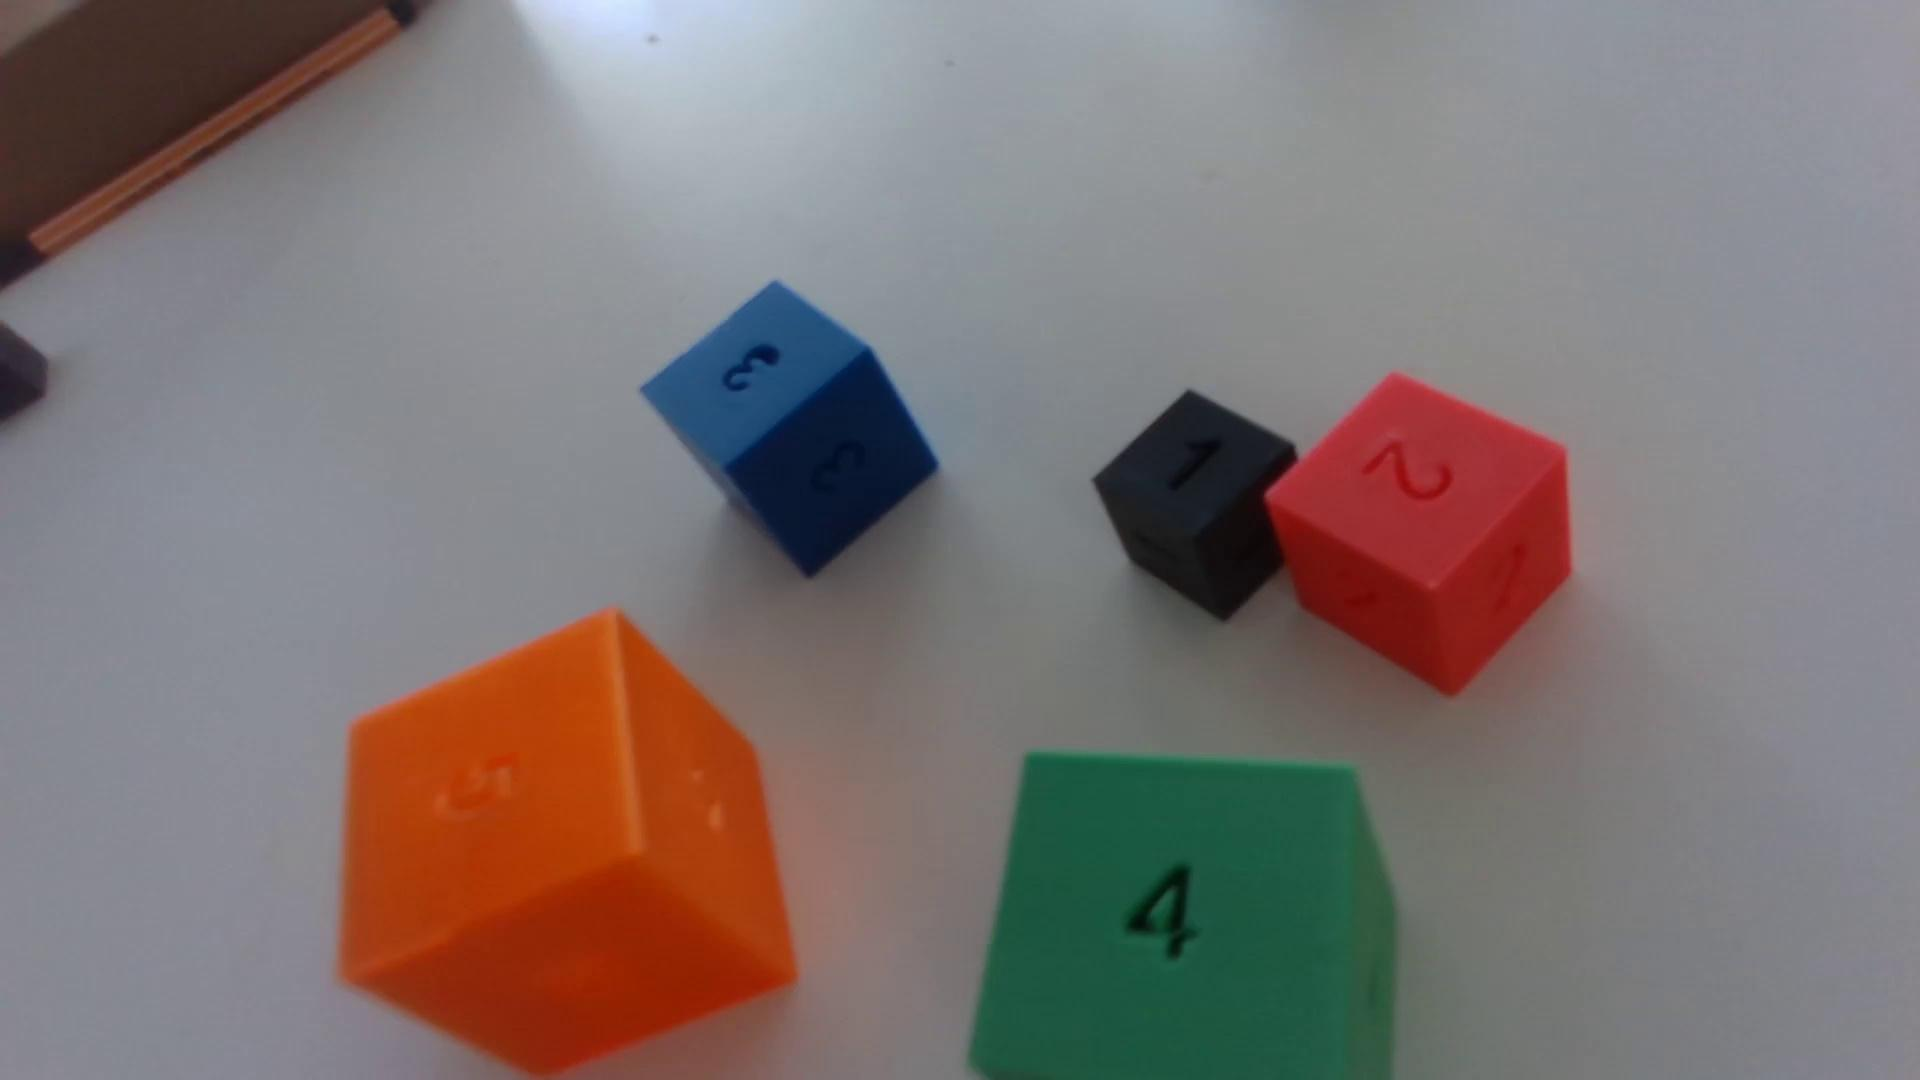black: (1093, 392, 1298, 621)
blue: (641, 284, 936, 576)
green: (969, 753, 1398, 1080)
orange: (338, 611, 796, 1080)
red: (1266, 375, 1571, 695)
